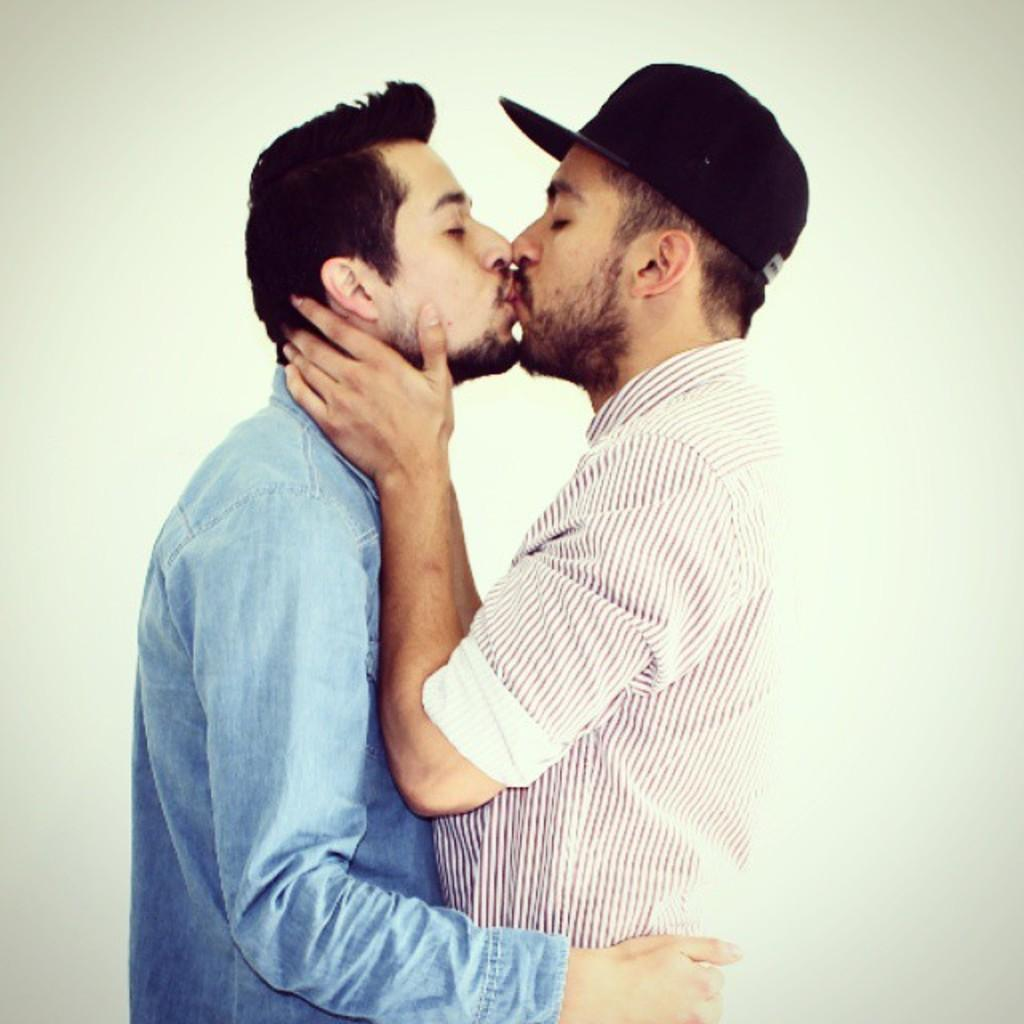Hat: (495, 50, 833, 300)
